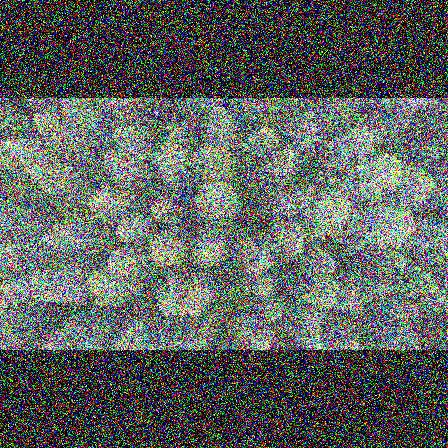Sick: (157, 116, 198, 143), (304, 309, 331, 335), (273, 192, 297, 215), (293, 187, 317, 208)
